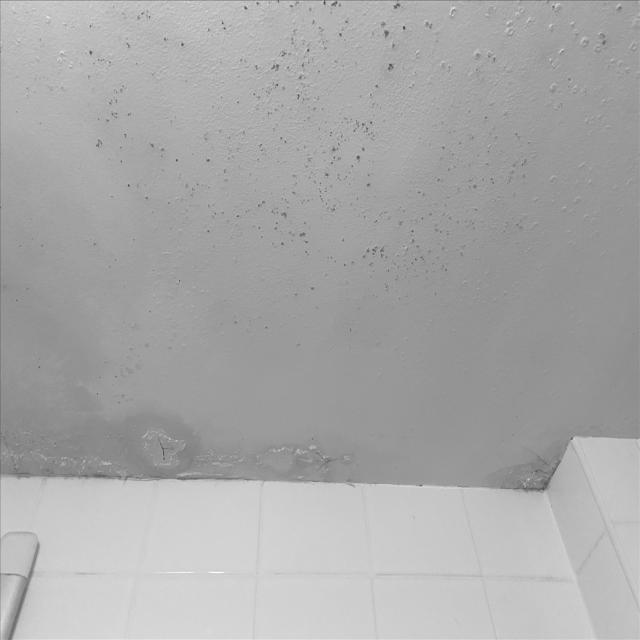stain marks: (17, 0, 640, 353), (0, 356, 368, 498), (458, 428, 588, 504)
